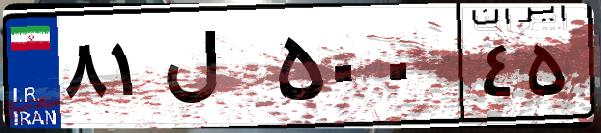0: (385, 28, 445, 110), (330, 28, 385, 110)
1: (110, 28, 158, 98)
4: (475, 38, 525, 113)
5: (270, 28, 330, 110), (525, 38, 570, 115)
8: (57, 26, 110, 100)
ل: (158, 20, 270, 120)
